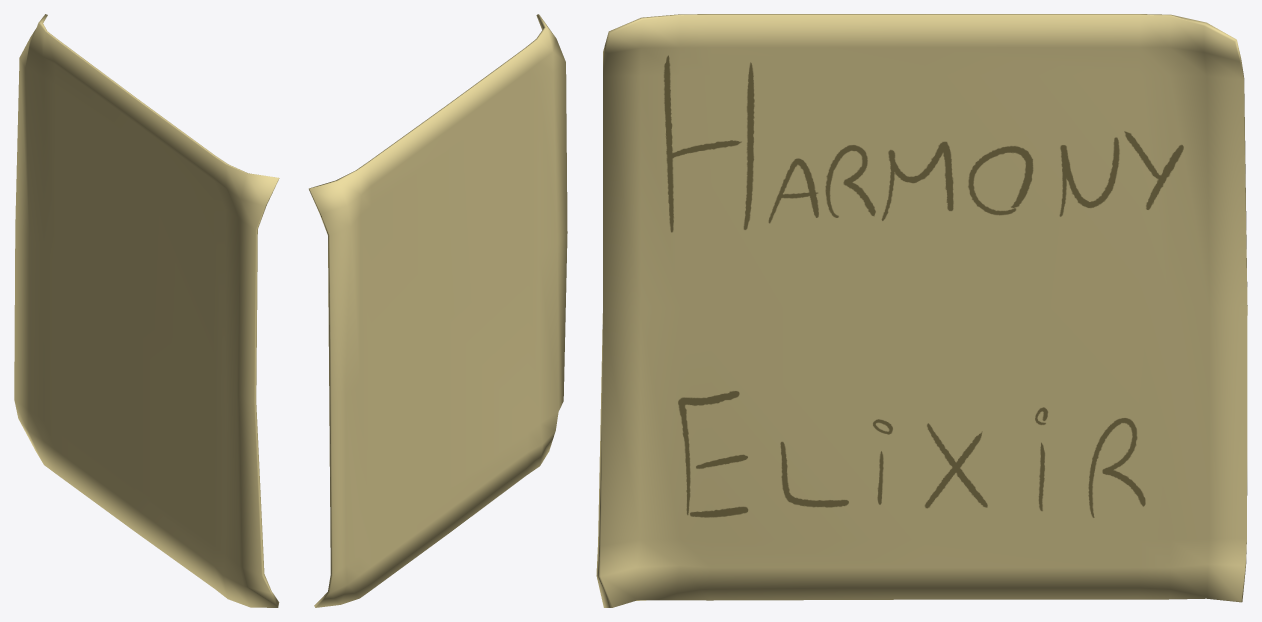
Rendered from papelHarmonyElixir.fbx.
The picture shows the model from 3 angles, left to right: view 1: azimuth 30°, elevation 25°; view 2: azimuth 150°, elevation 25°; view 3: azimuth 270°, elevation 25°; orthographic projection. The views are drawn at different scales.
Visible parts, largest first — view 1: Papel; view 2: Papel; view 3: Papel.
Boxes of the visible parts, bbox=[...] form: Papel: bbox=[14, 14, 279, 607]; Papel: bbox=[309, 14, 567, 607]; Papel: bbox=[596, 14, 1247, 607].
Bounding box in the file's own units: 16.28 × 200 × 202.
